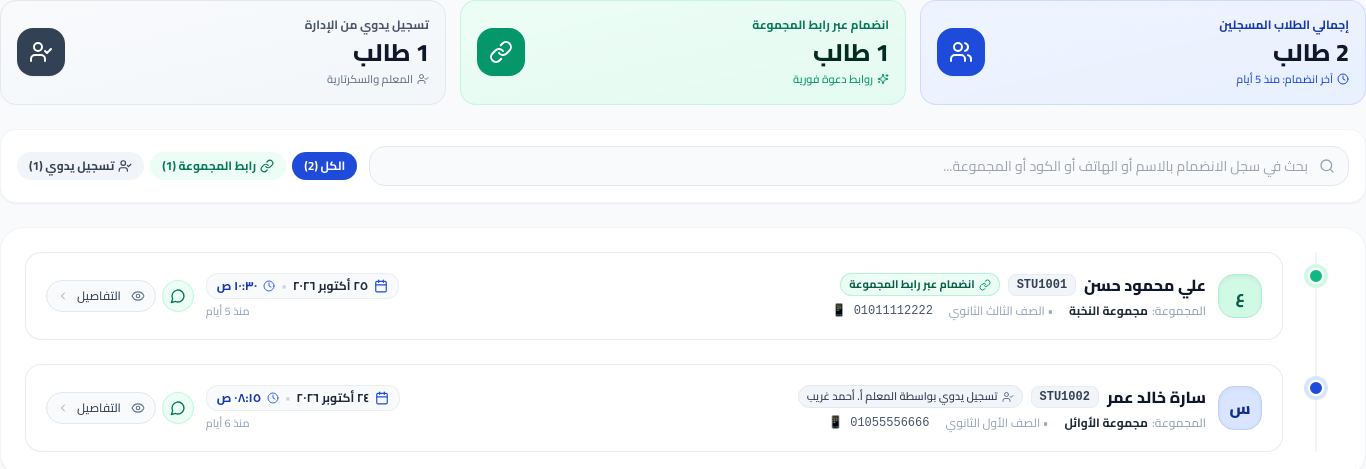
Test: StudentJoiningTimeline Component › filters students by search input
Step 1. Type "علي محمود" into the field with placeholder "بحث في سجل الانضمام" → (859,166), box [369, 146, 1349, 186]
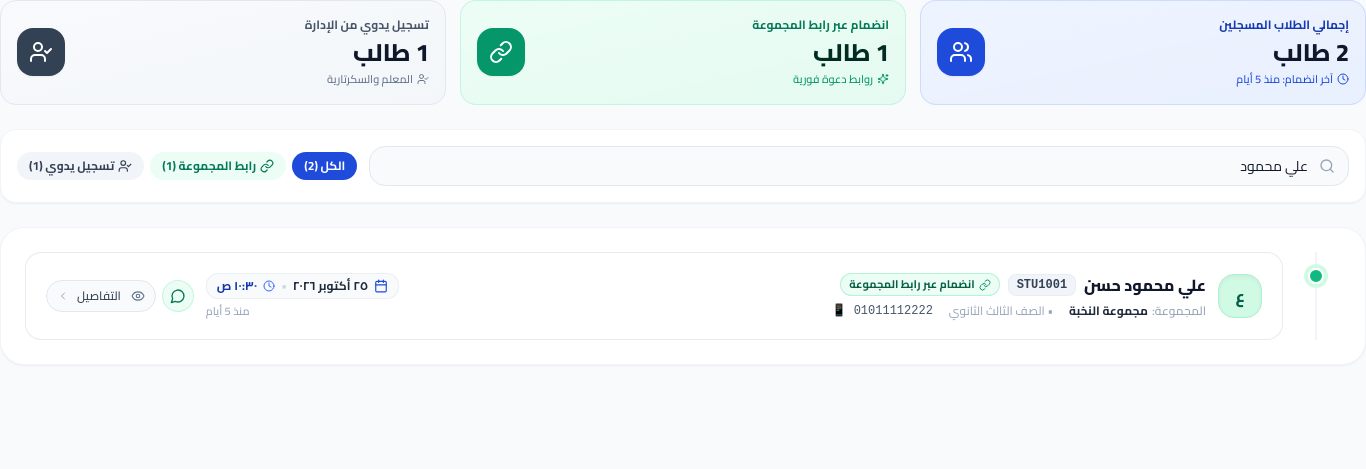
Expected: the heading "علي محمود حسن" is shown, [1084, 272, 1206, 296]
Expected: the heading "سارة خالد عمر" is gone
